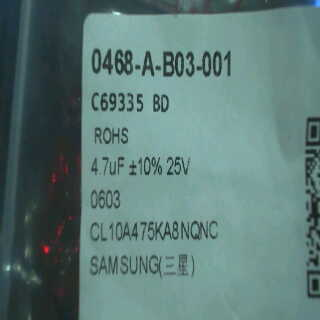4.7uF: (88, 152, 128, 184)
